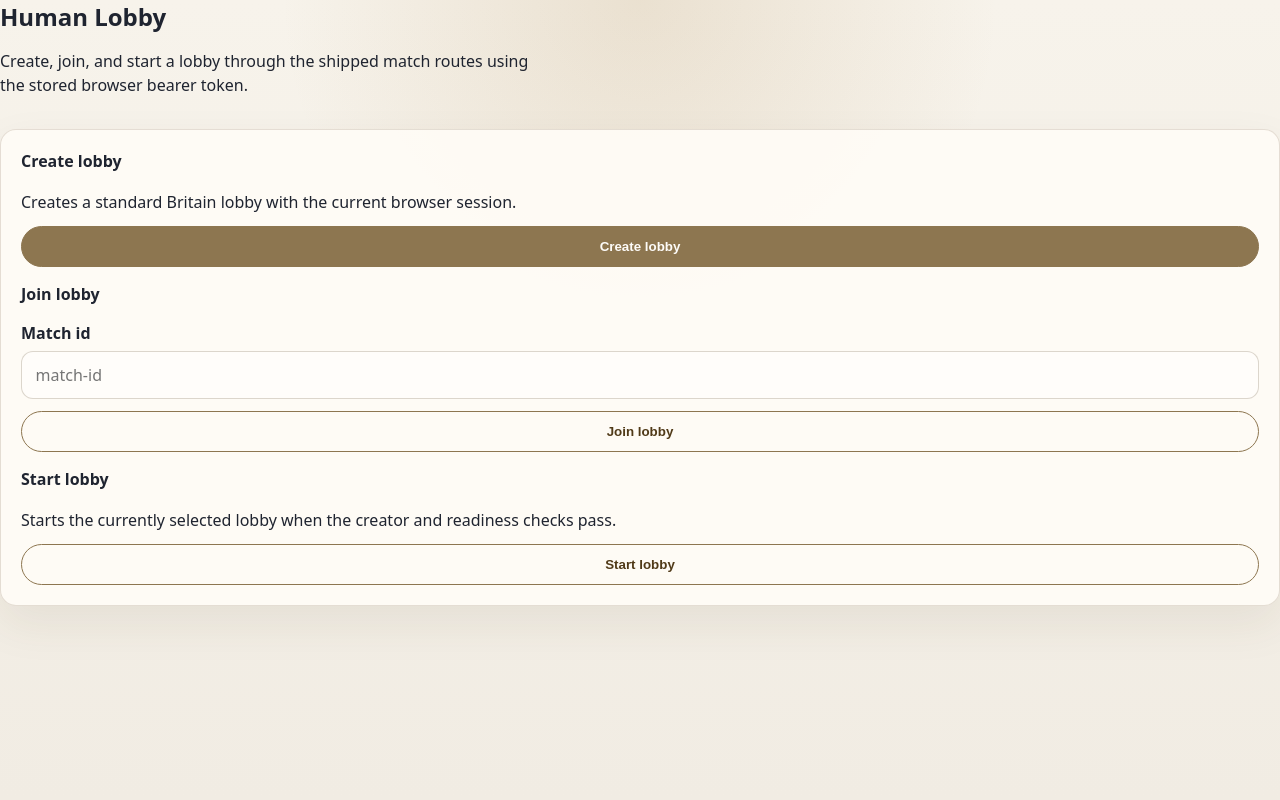
HumanLobbyPage › starts the last confirmed lobby through the existing start route
The width and height of the screenshot is (1280, 800).
Step 1. Click the button "Create lobby" → (640, 246), box [21,226,1259,267]
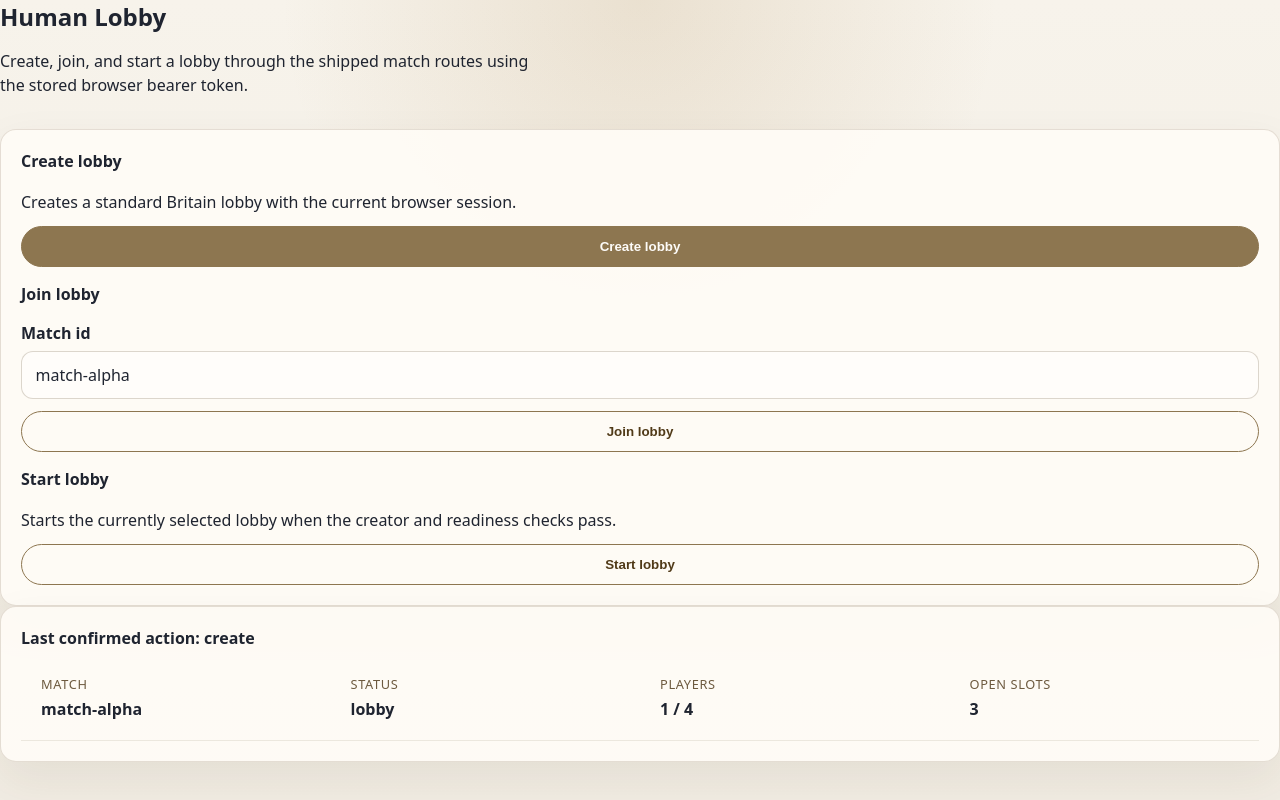
Now the text "Last confirmed action: create" is shown, box [21,627,255,649]
Step 2. Click the button "Start lobby" → (640, 564), box [21,544,1259,585]
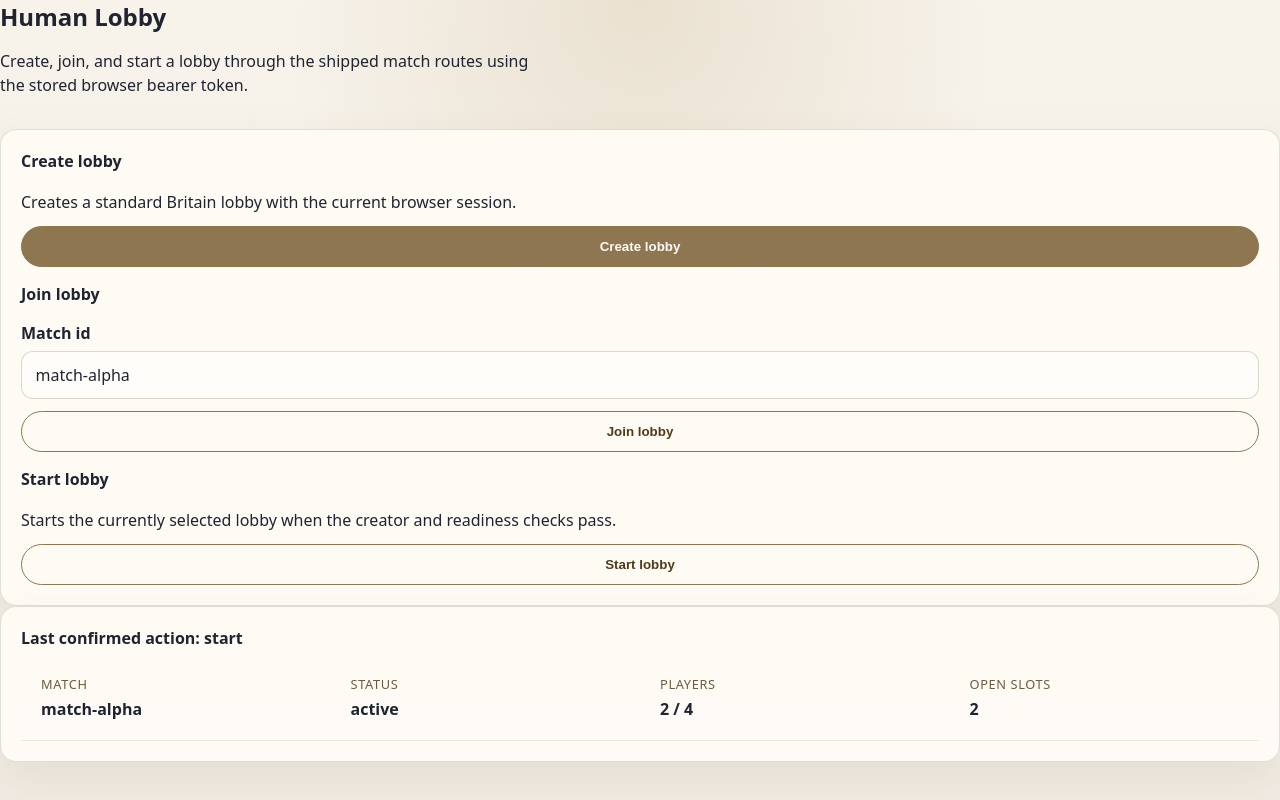
Now the text "Last confirmed action: start" is shown, box [21,627,243,649]
Now the text "active" is shown, box [350,698,399,720]
Now the text "2 / 4" is shown, box [660,698,693,720]
